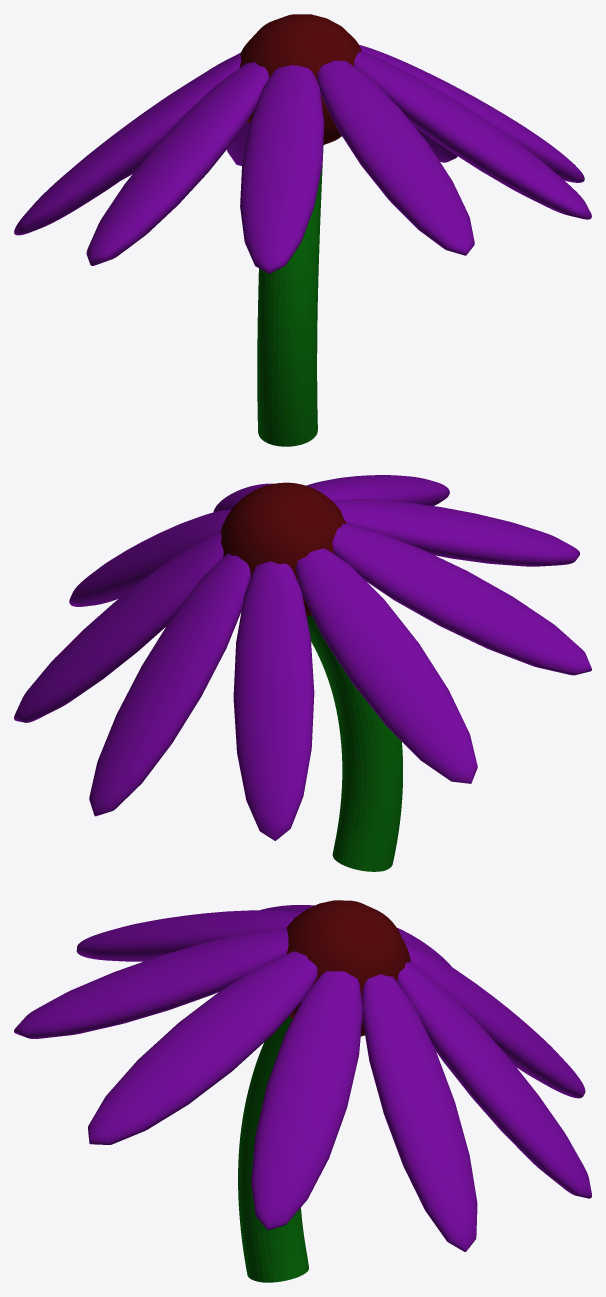
The model's file is Flower.fbx.
The picture shows the model from 3 angles, top to bottom: view 1: azimuth 30°, elevation 25°; view 2: azimuth 150°, elevation 25°; view 3: azimuth 270°, elevation 25°; orthographic projection. The views are drawn at different scales.
Parts seen in each view (by area): view 1: Cylinder.012; view 2: Cylinder.012; view 3: Cylinder.012.
Boxes of the visible parts, left/top/right/bottom form: Cylinder.012: left=14, top=14, right=591, bottom=446; Cylinder.012: left=14, top=475, right=591, bottom=871; Cylinder.012: left=14, top=900, right=591, bottom=1282.
Bounding box in the file's own units: 63.4 × 45.74 × 61.18.
